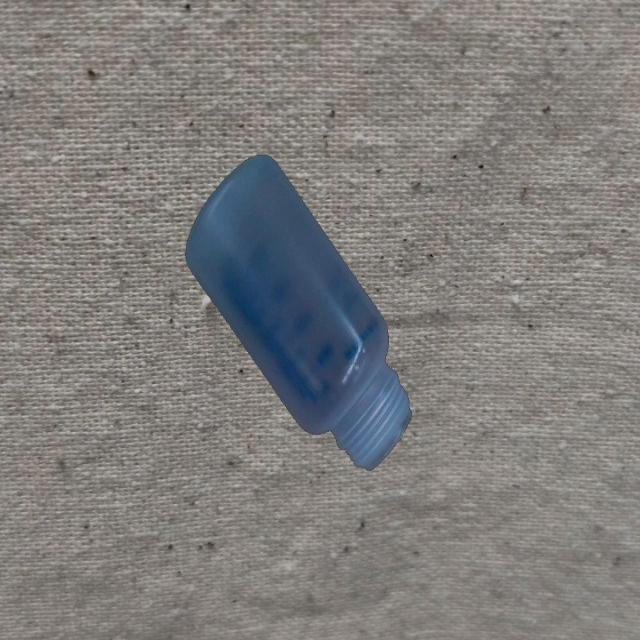bottle: (186, 149, 412, 474)
